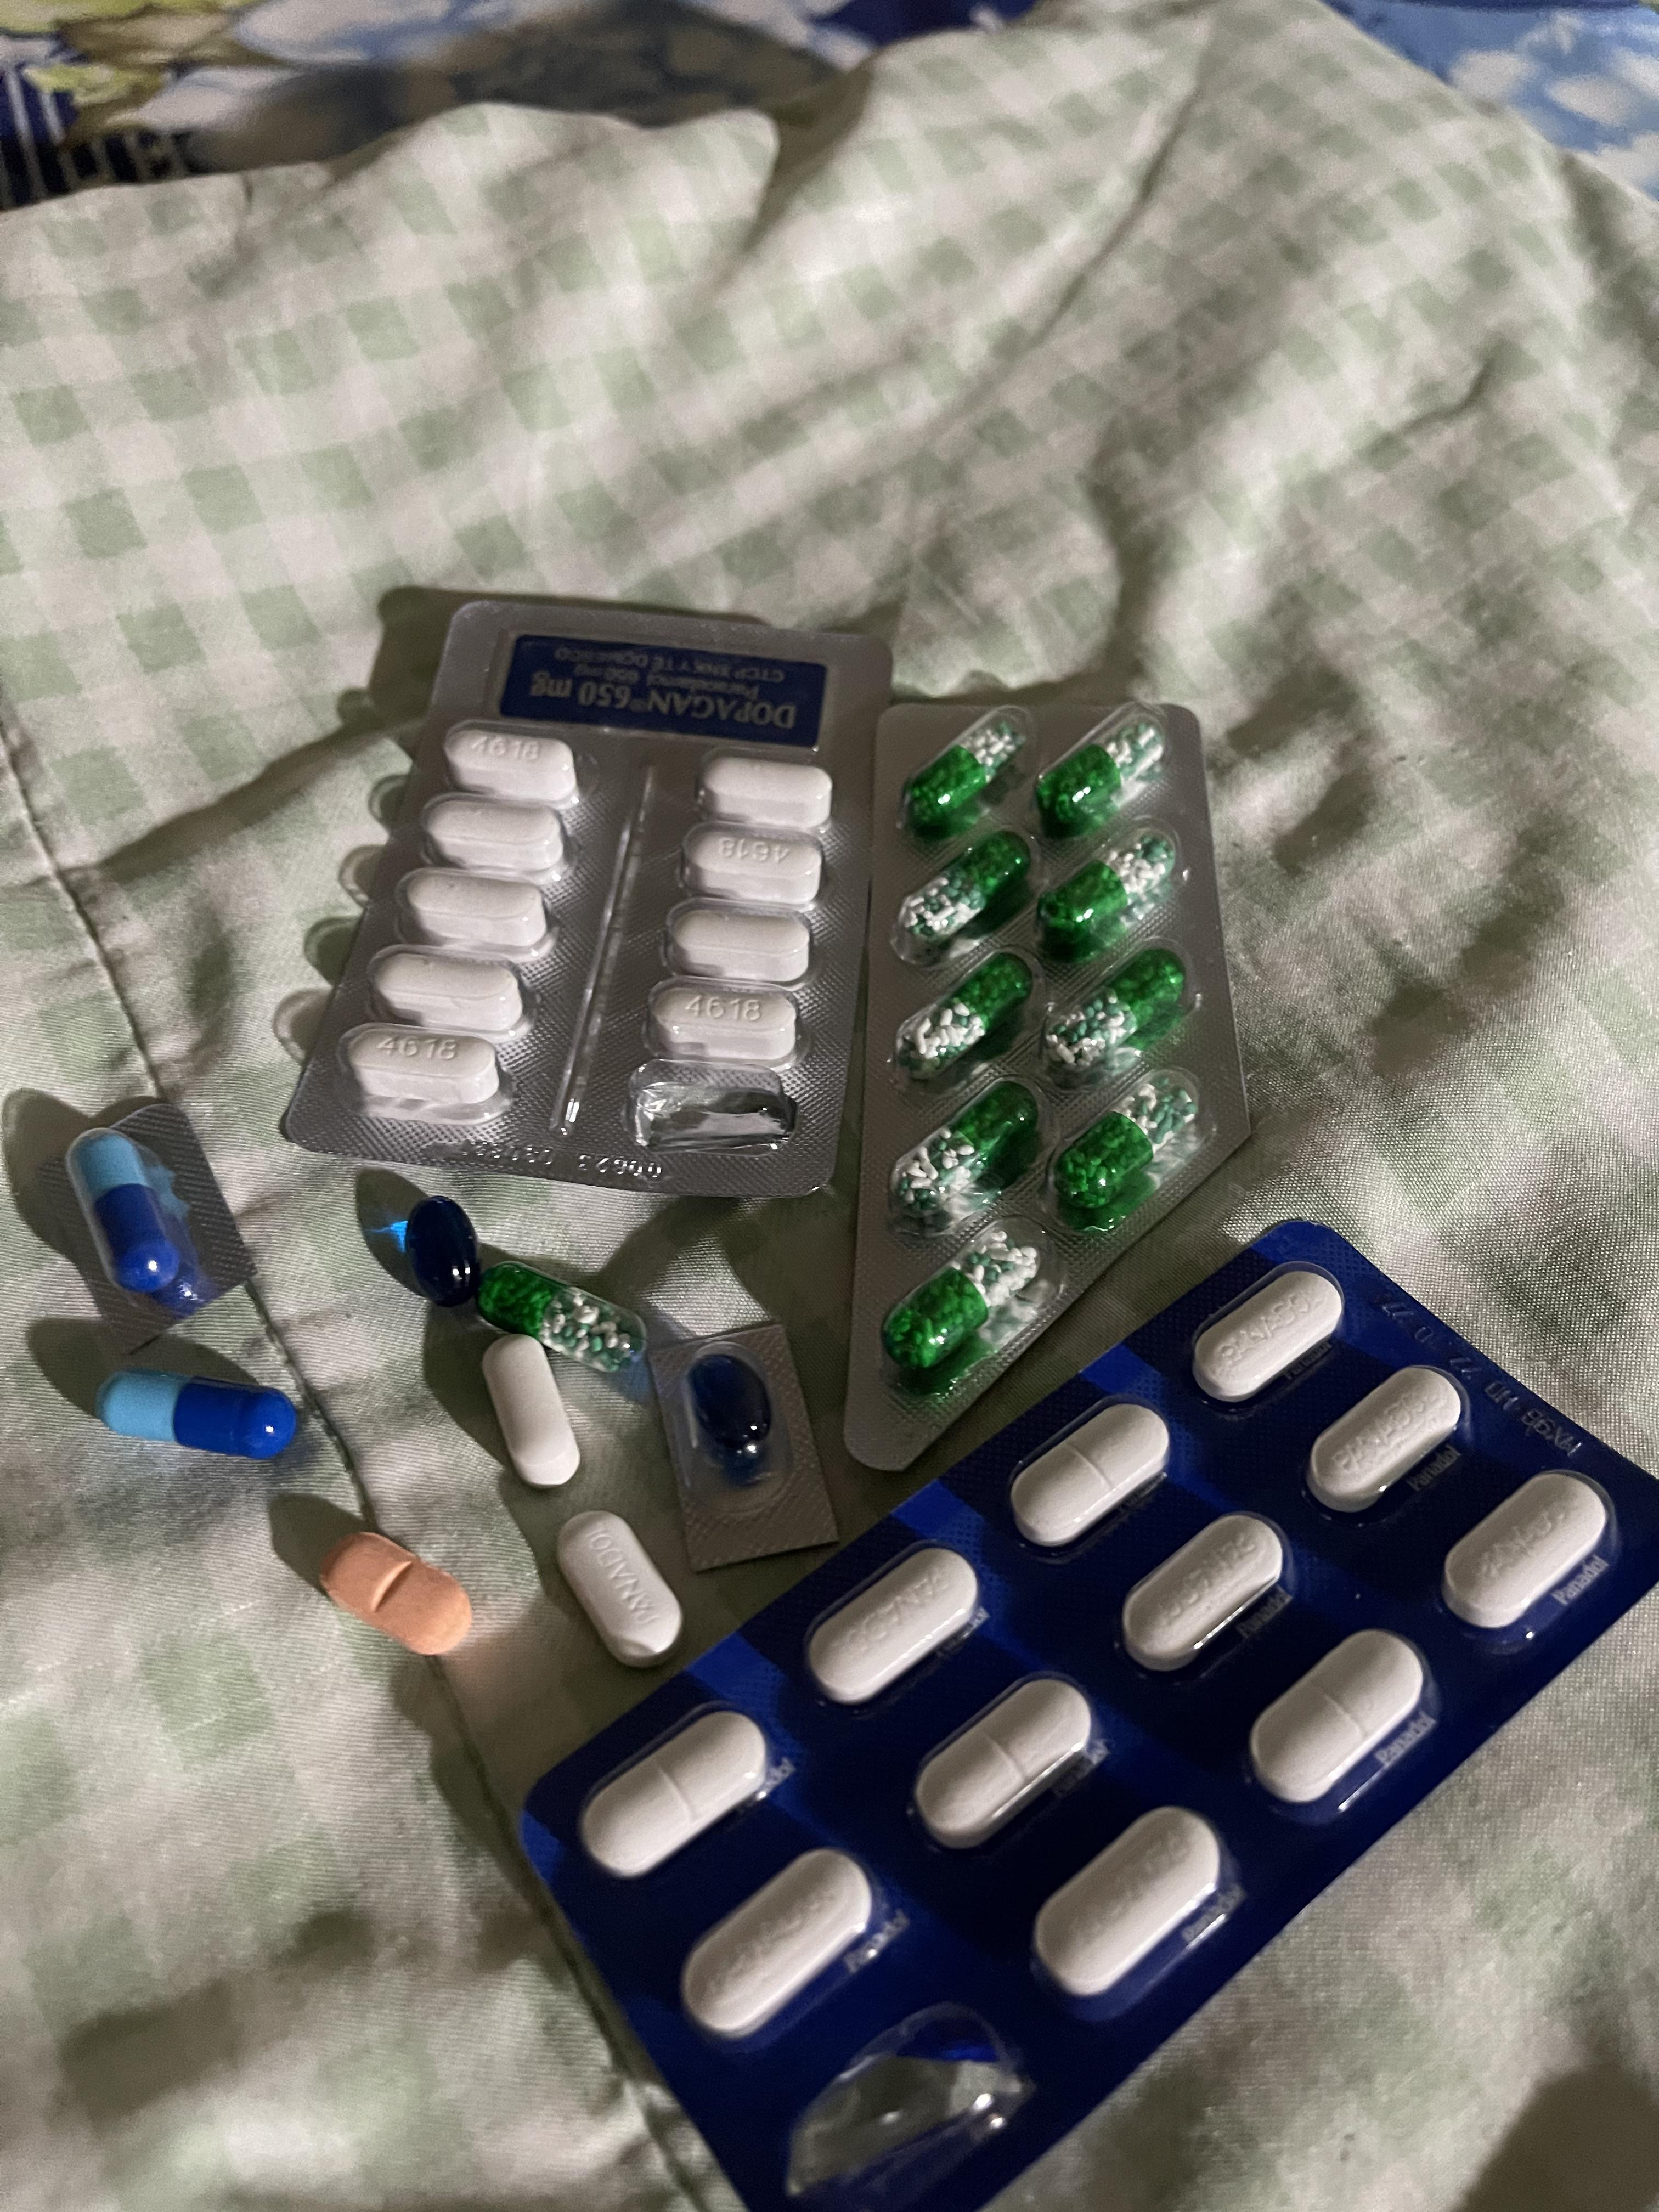Lincomyxin_500mg: (687, 1353, 781, 1480), (406, 1195, 483, 1308)
Loratadine_10mg: (319, 1529, 476, 1656)
Paracetamol_350mg: (1032, 1804, 1223, 2003), (680, 1848, 871, 2038), (1248, 1627, 1424, 1810), (913, 1674, 1094, 1850), (584, 1707, 767, 1879), (1441, 1470, 1615, 1634), (805, 1541, 979, 1705), (1121, 1510, 1283, 1670), (1305, 1366, 1466, 1514), (1011, 1399, 1168, 1545), (1190, 1263, 1340, 1399), (556, 1508, 681, 1667)
Paracetamol_500mg: (484, 1334, 579, 1489), (343, 1026, 505, 1115), (371, 949, 525, 1036), (401, 869, 552, 954), (652, 981, 798, 1064), (683, 822, 823, 906), (667, 906, 812, 986), (422, 794, 565, 874), (444, 725, 580, 808), (697, 754, 833, 833)
Paracetamol_650mg: (884, 1219, 1042, 1369), (1053, 1071, 1199, 1226), (896, 1080, 1042, 1231), (476, 1261, 647, 1372), (1044, 946, 1188, 1073), (1042, 831, 1180, 961), (897, 953, 1033, 1080), (897, 831, 1032, 953), (1039, 716, 1162, 838), (904, 716, 1025, 836)
pill: (68, 1129, 202, 1306), (96, 1366, 296, 1460)
